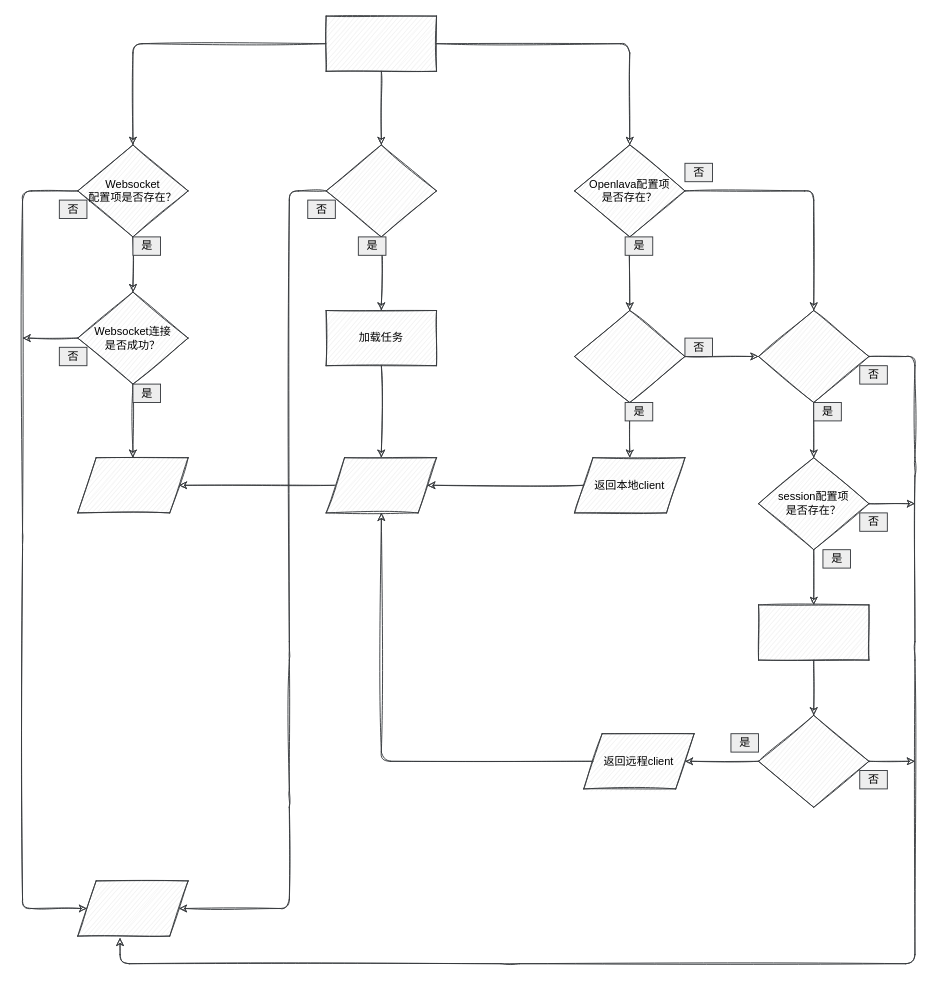
Some shapes in this 938 by 987 pixel diagram are drawn without their labels. The shapes that lost their labels are listed below. From the top down, each one's box as (x1, y1, x2, y2) in pixels, then its label:
(325, 15, 437, 71): 加载配置文件
(325, 144, 437, 237): Task配置项 是否存在？
(574, 310, 685, 402): 是否是本地模式？
(758, 310, 869, 402): 是否是远程模式？
(77, 457, 188, 513): 返回websocket句柄
(325, 457, 437, 513): 返回Invoker
(758, 604, 869, 660): 初始化session
(758, 714, 869, 807): 远程连接是否成功？
(77, 880, 188, 936): 错误
